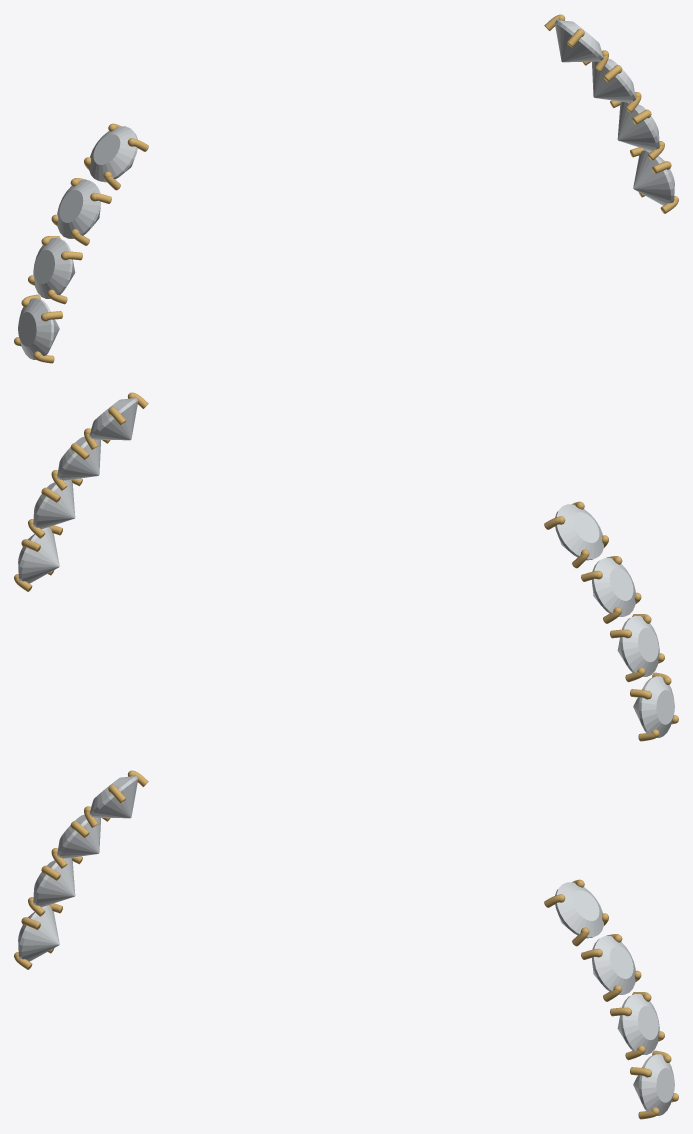
File: accents-pave-head.glb
3 renders of one model, top to bottom at view 1: azimuth 30°, elevation 25°; view 2: azimuth 150°, elevation 25°; view 3: azimuth 330°, elevation 25°, orthographic.
Parts seen in each view (by area): view 1: Gem, Gem.001, Gem.002, Gem.003, Gem.007, Gem.006, Gem.004, Gem.005; view 2: Gem, Gem.001, Gem.002, Gem.003, Gem.007, Gem.006, Gem.004, Gem.005; view 3: Gem.004, Gem.005, Gem.006, Gem.007, Gem.003, Gem.002, Gem, Gem.001.
Part boxes in pixels (left/top/right/bottom): Gem: left=89, top=126, right=137, bottom=182; Gem.001: left=57, top=180, right=100, bottom=238; Gem.002: left=33, top=237, right=75, bottom=298; Gem.003: left=18, top=298, right=59, bottom=359; Gem.007: left=633, top=149, right=674, bottom=205; Gem.006: left=617, top=101, right=659, bottom=151; Gem.004: left=555, top=20, right=603, bottom=62; Gem.005: left=592, top=58, right=635, bottom=102; Gem: left=555, top=504, right=603, bottom=560; Gem.001: left=592, top=558, right=635, bottom=616; Gem.002: left=617, top=615, right=659, bottom=676; Gem.003: left=633, top=676, right=674, bottom=737; Gem.007: left=18, top=527, right=59, bottom=583; Gem.006: left=33, top=479, right=75, bottom=529; Gem.004: left=89, top=398, right=137, bottom=440; Gem.005: left=57, top=436, right=100, bottom=480; Gem.004: left=555, top=882, right=603, bottom=938; Gem.005: left=592, top=936, right=635, bottom=994; Gem.006: left=617, top=993, right=659, bottom=1054; Gem.007: left=633, top=1054, right=674, bottom=1115; Gem.003: left=18, top=905, right=59, bottom=961; Gem.002: left=33, top=857, right=75, bottom=907; Gem: left=89, top=776, right=137, bottom=818; Gem.001: left=57, top=814, right=100, bottom=858.
Bounding box in the file's own units: 19.73 × 5.99 × 1.65.
